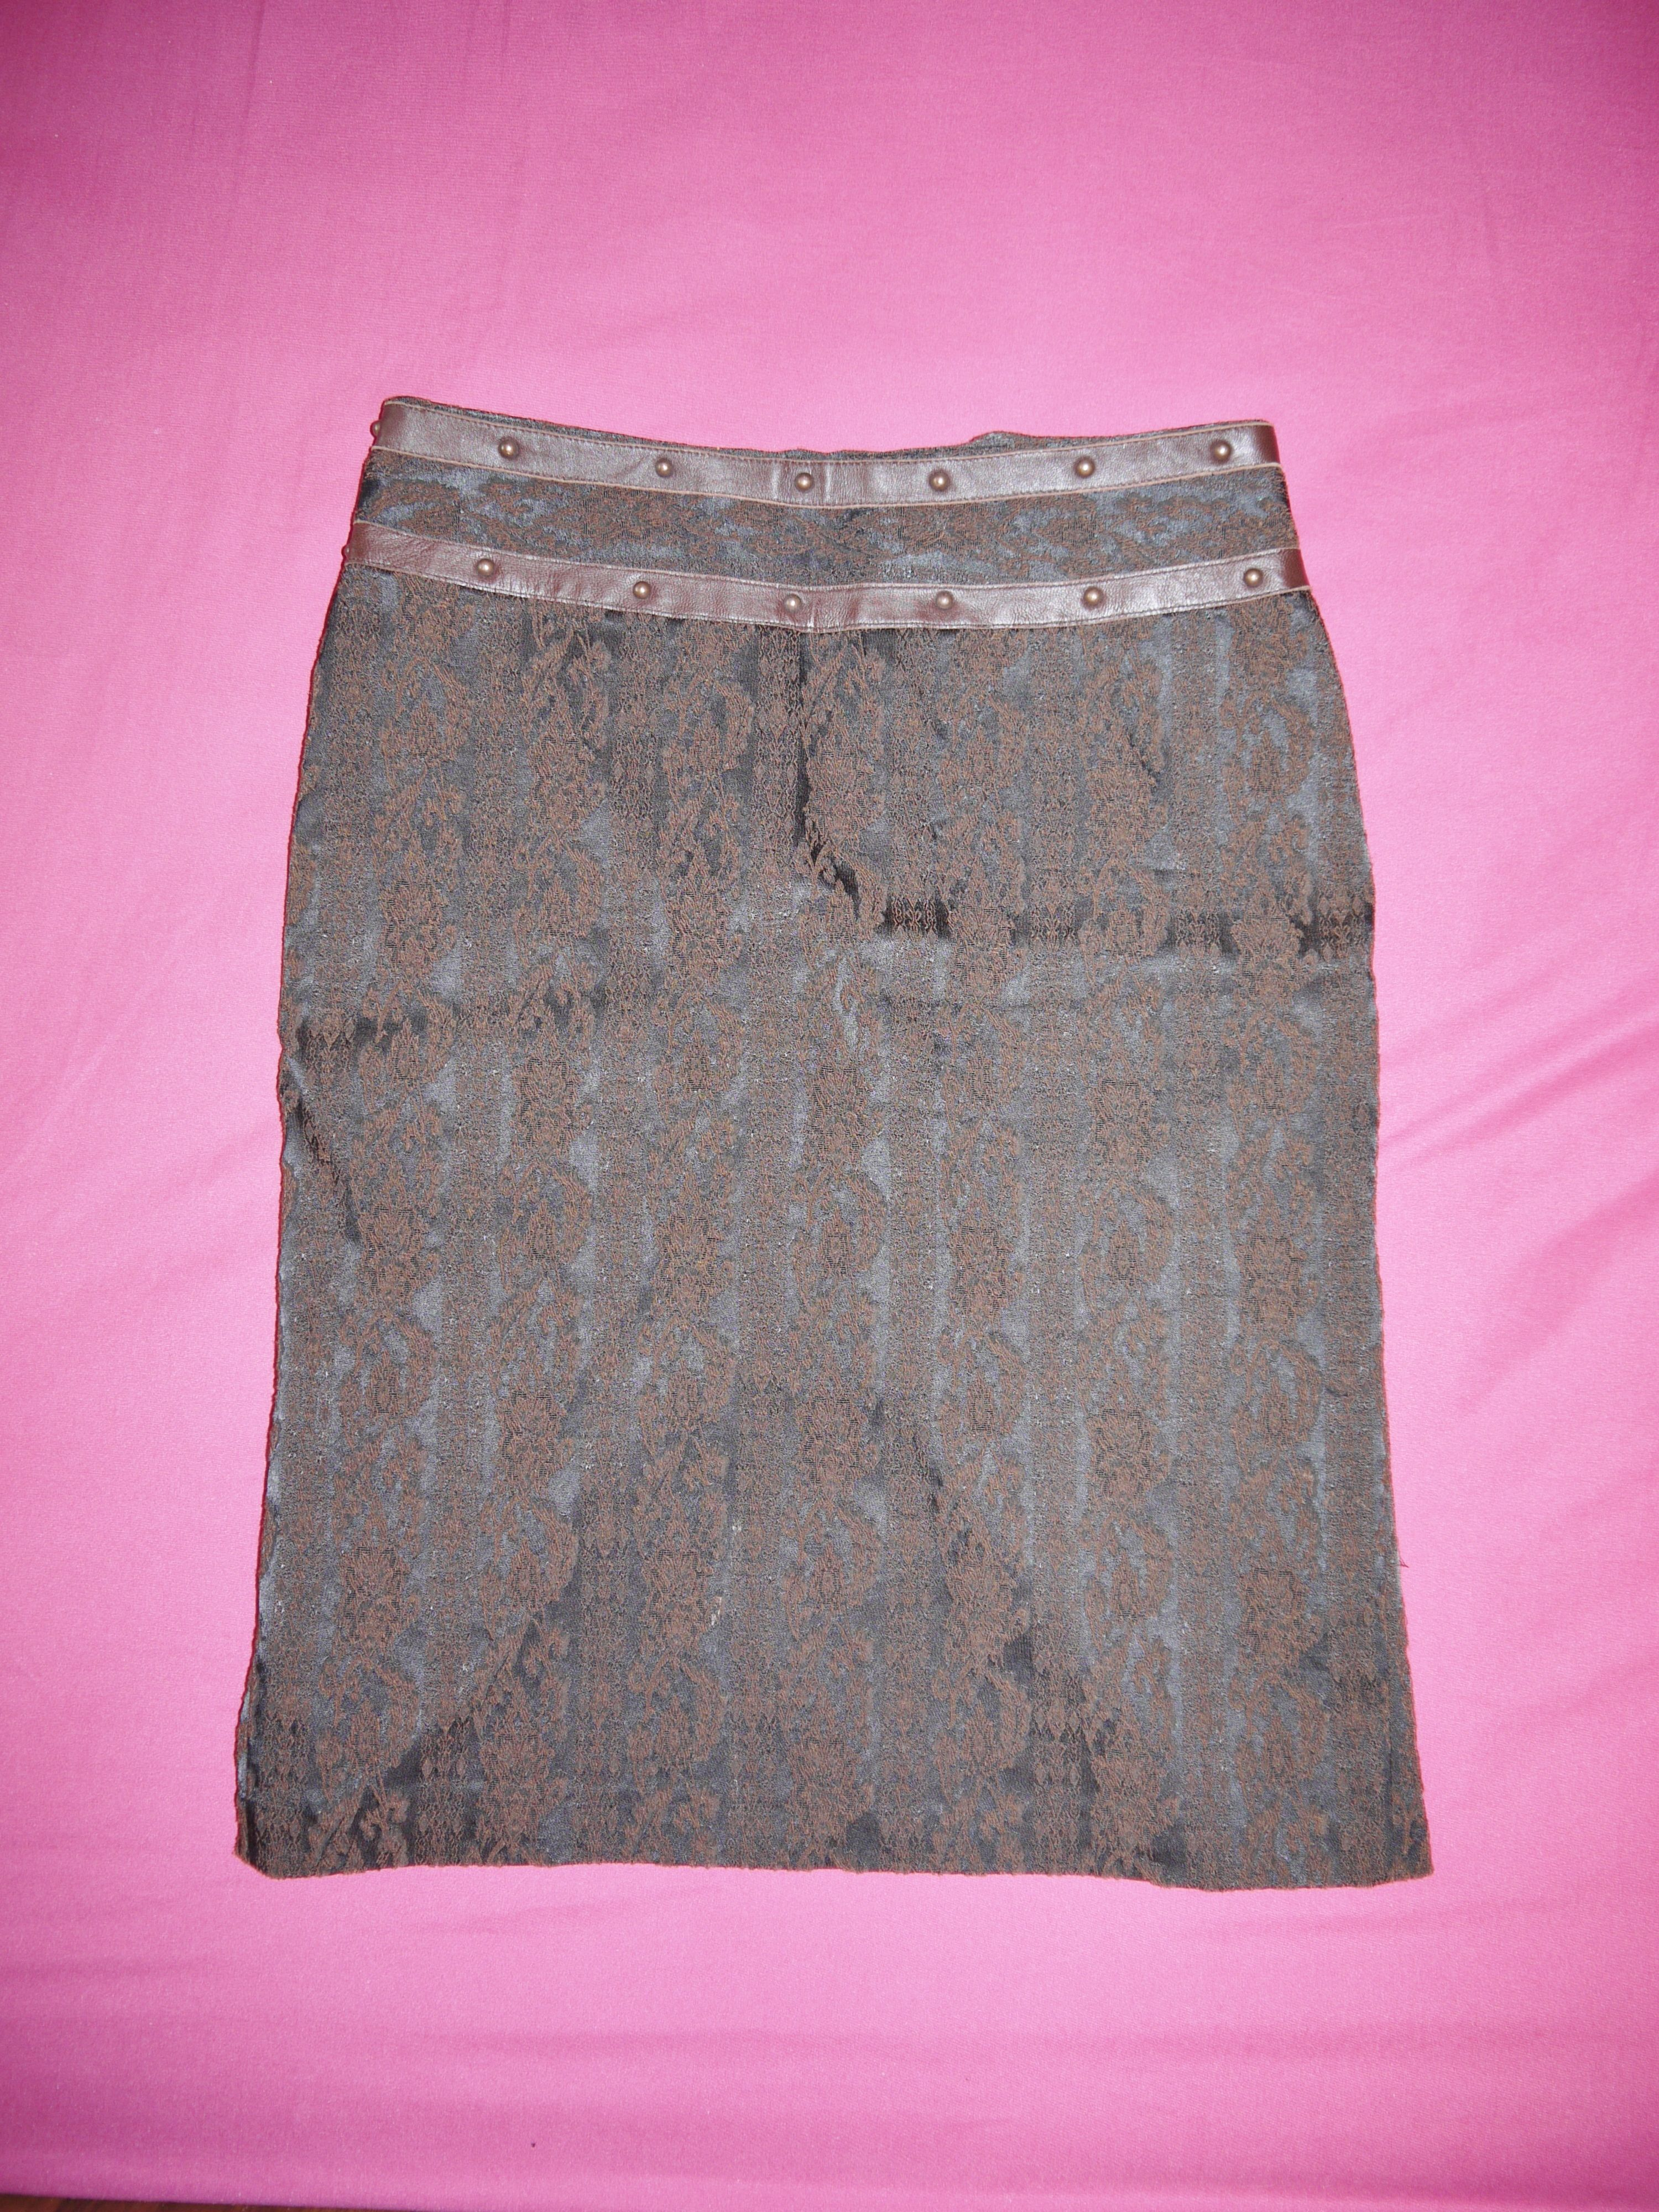clothes: (237, 380, 1441, 1909)
